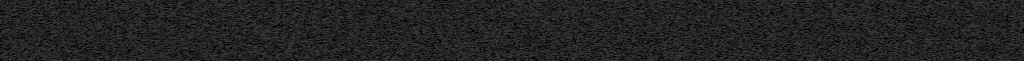wv_cw: (120, 0, 154, 61)
wv_lsb: (31, 1, 72, 61), (945, 31, 979, 61), (959, 11, 963, 30), (959, 1, 963, 10)
wv_usb: (958, 1, 974, 61)
wv_wbfm: (822, 0, 905, 61)
